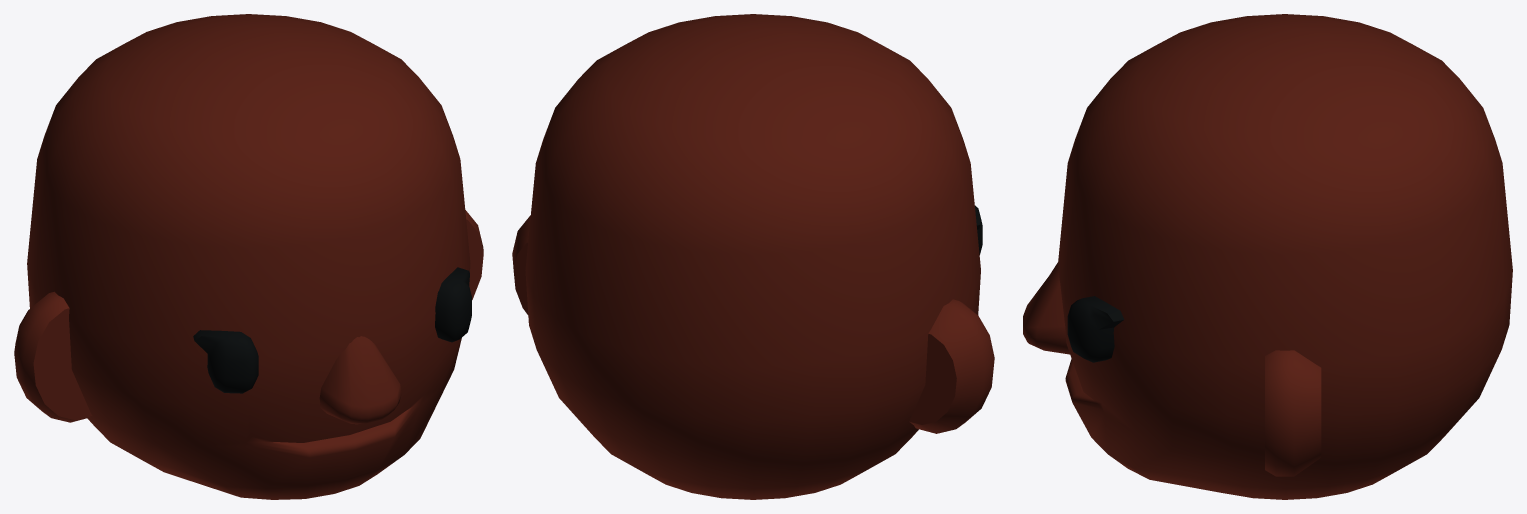
The model's file is rogueHeadA.obj.
3 views of the same model, side by side, from view 1: azimuth 30°, elevation 25°; view 2: azimuth 150°, elevation 25°; view 3: azimuth 270°, elevation 25° (orthographic). The views are drawn at different scales.
Parts seen in each view (by area): view 1: rogueHeadA_Cube.3522; view 2: rogueHeadA_Cube.3522; view 3: rogueHeadA_Cube.3522.
Boxes of the visible parts, x1,y1,x2,y2 form: rogueHeadA_Cube.3522: (14,14,483,499); rogueHeadA_Cube.3522: (512,14,994,499); rogueHeadA_Cube.3522: (1023,14,1512,499).
Size of the model in its own units: 1.18 by 0.9703 by 1.05.
